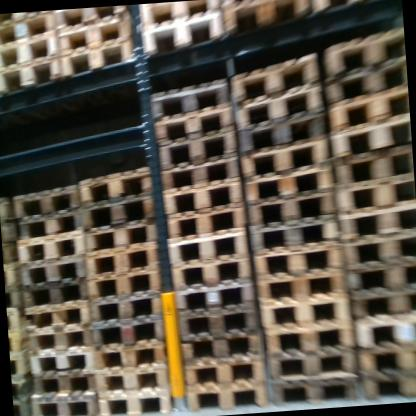pallet: (239, 133, 335, 210), (228, 47, 327, 112), (237, 106, 327, 165), (319, 19, 407, 78), (230, 80, 325, 130), (252, 211, 341, 263), (52, 34, 138, 87), (137, 9, 226, 60), (321, 86, 411, 135), (322, 57, 409, 107), (159, 120, 240, 172), (162, 196, 250, 243), (157, 146, 243, 193), (326, 115, 412, 162), (145, 74, 231, 120), (165, 224, 249, 271), (253, 236, 347, 278), (245, 186, 338, 228), (332, 144, 415, 191), (148, 99, 236, 142), (180, 346, 268, 388), (89, 313, 169, 359), (216, 0, 315, 37), (258, 271, 351, 310), (77, 239, 163, 281), (78, 163, 160, 207), (180, 322, 263, 365), (175, 296, 261, 337), (340, 224, 416, 270), (176, 270, 257, 313), (80, 191, 164, 232), (266, 370, 361, 406), (162, 178, 245, 219), (338, 201, 416, 243), (335, 174, 414, 215), (266, 320, 356, 355), (167, 250, 252, 287), (13, 224, 86, 265), (258, 296, 351, 328), (347, 282, 416, 325), (182, 379, 269, 413), (88, 268, 167, 305), (11, 201, 85, 240), (344, 255, 416, 295), (84, 289, 171, 322), (81, 219, 163, 254), (133, 1, 222, 33), (269, 349, 359, 380), (90, 338, 173, 370), (58, 17, 137, 50), (15, 247, 85, 284), (97, 385, 179, 416), (0, 56, 62, 96), (94, 365, 176, 395), (0, 29, 60, 69), (11, 183, 82, 216), (54, 7, 126, 38), (31, 363, 96, 395), (27, 343, 93, 374), (28, 388, 100, 416), (361, 369, 416, 405), (21, 278, 87, 308), (357, 341, 416, 374), (359, 316, 416, 349), (21, 300, 90, 327), (28, 321, 92, 350), (0, 15, 56, 47), (312, 0, 401, 16), (0, 13, 41, 33), (10, 348, 32, 381), (12, 373, 35, 404), (9, 330, 32, 359), (8, 305, 30, 335), (0, 190, 18, 224), (13, 394, 39, 416), (5, 262, 23, 288), (7, 285, 28, 307), (3, 223, 20, 244), (4, 244, 21, 263)
